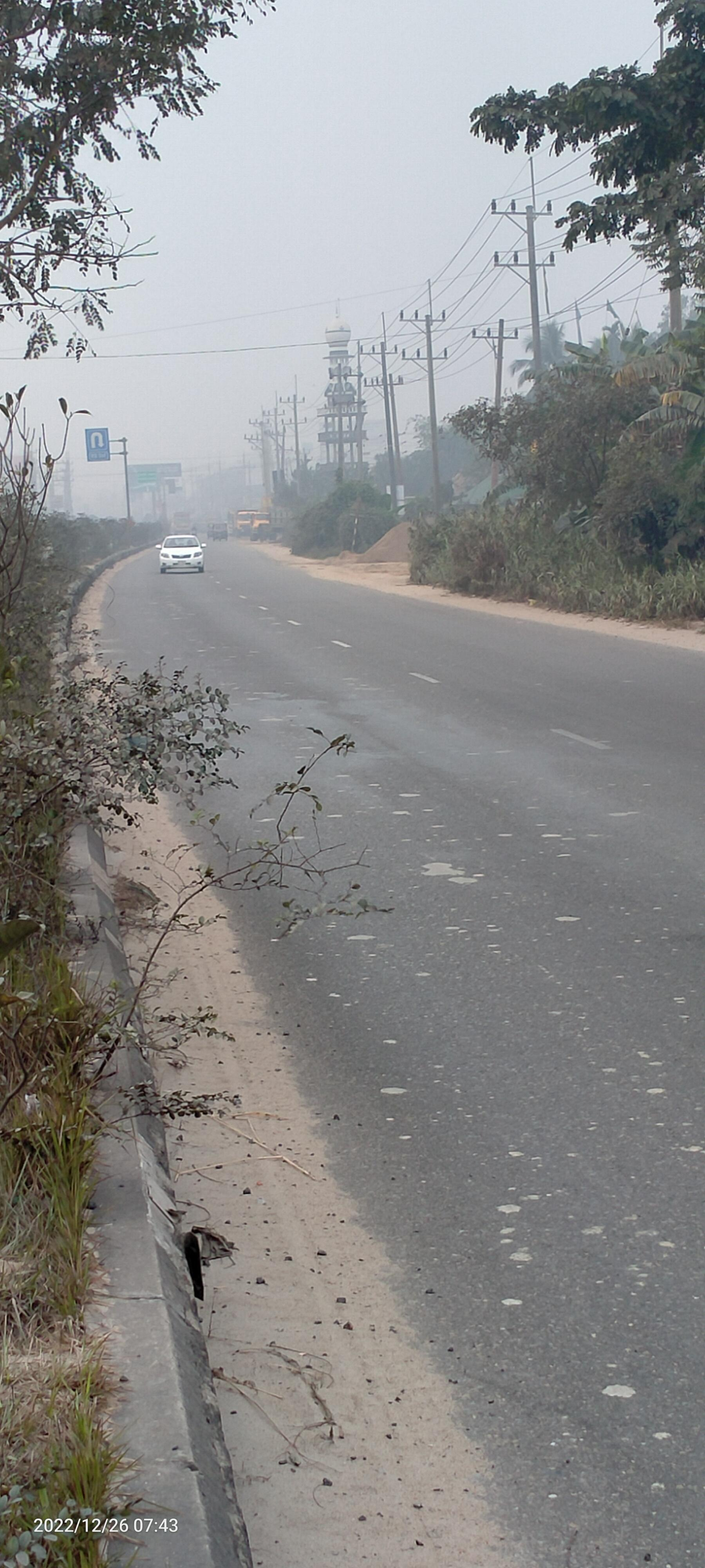Car: (152, 533, 217, 576)
